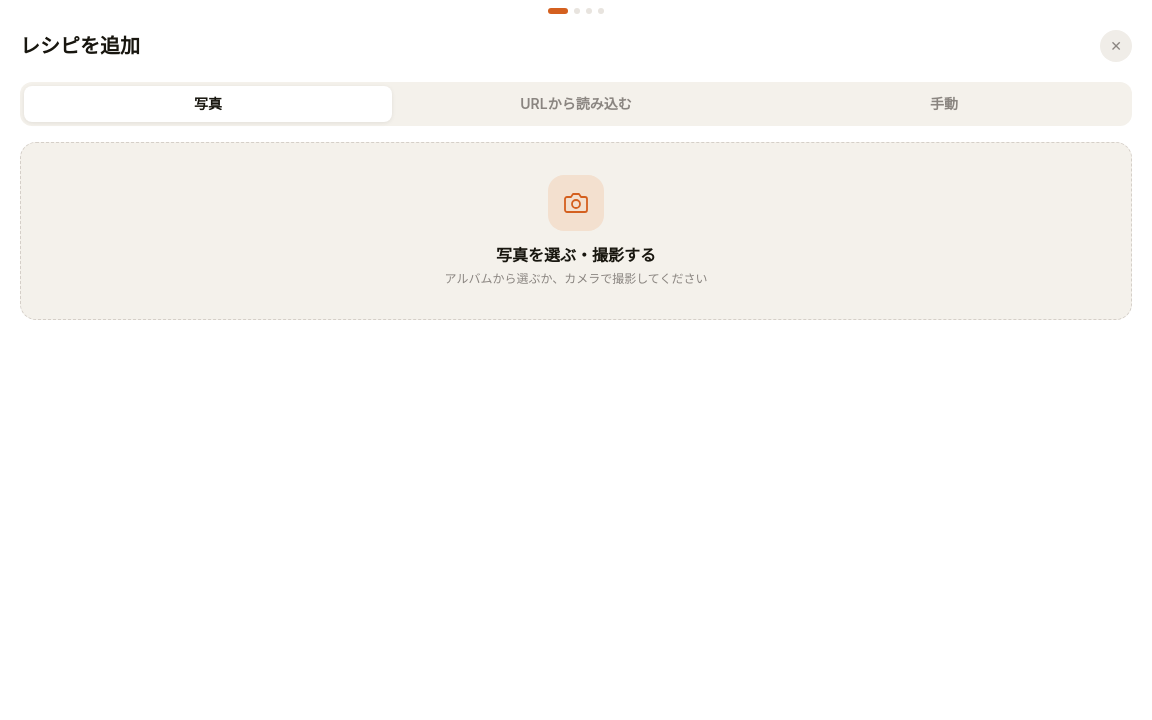
UploadModal 手動作成 › 「手動」タブを押すと、AIを経由せず編集画面（内容を確認・修正）へ進む
This screenshot has width=1152, height=720.
Click the button "手動" at coordinates (944, 104), box [760,86,1128,122]
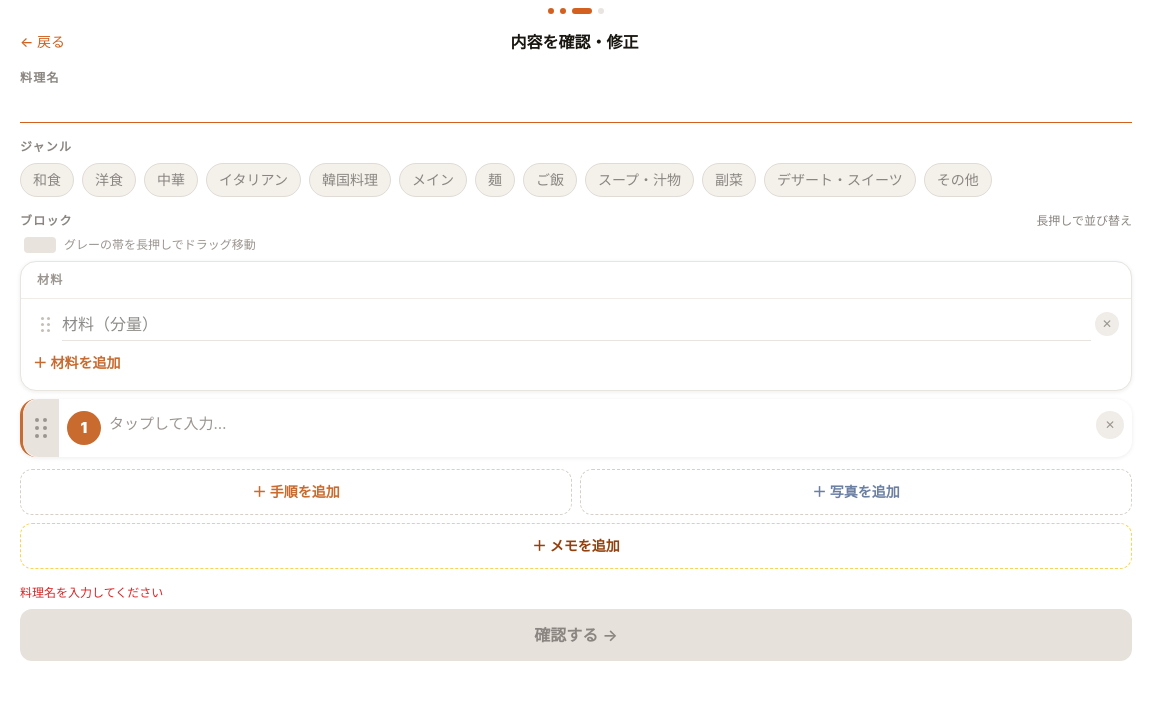
expect the heading "内容を確認・修正" is shown: met, box [510,30,638,54]
